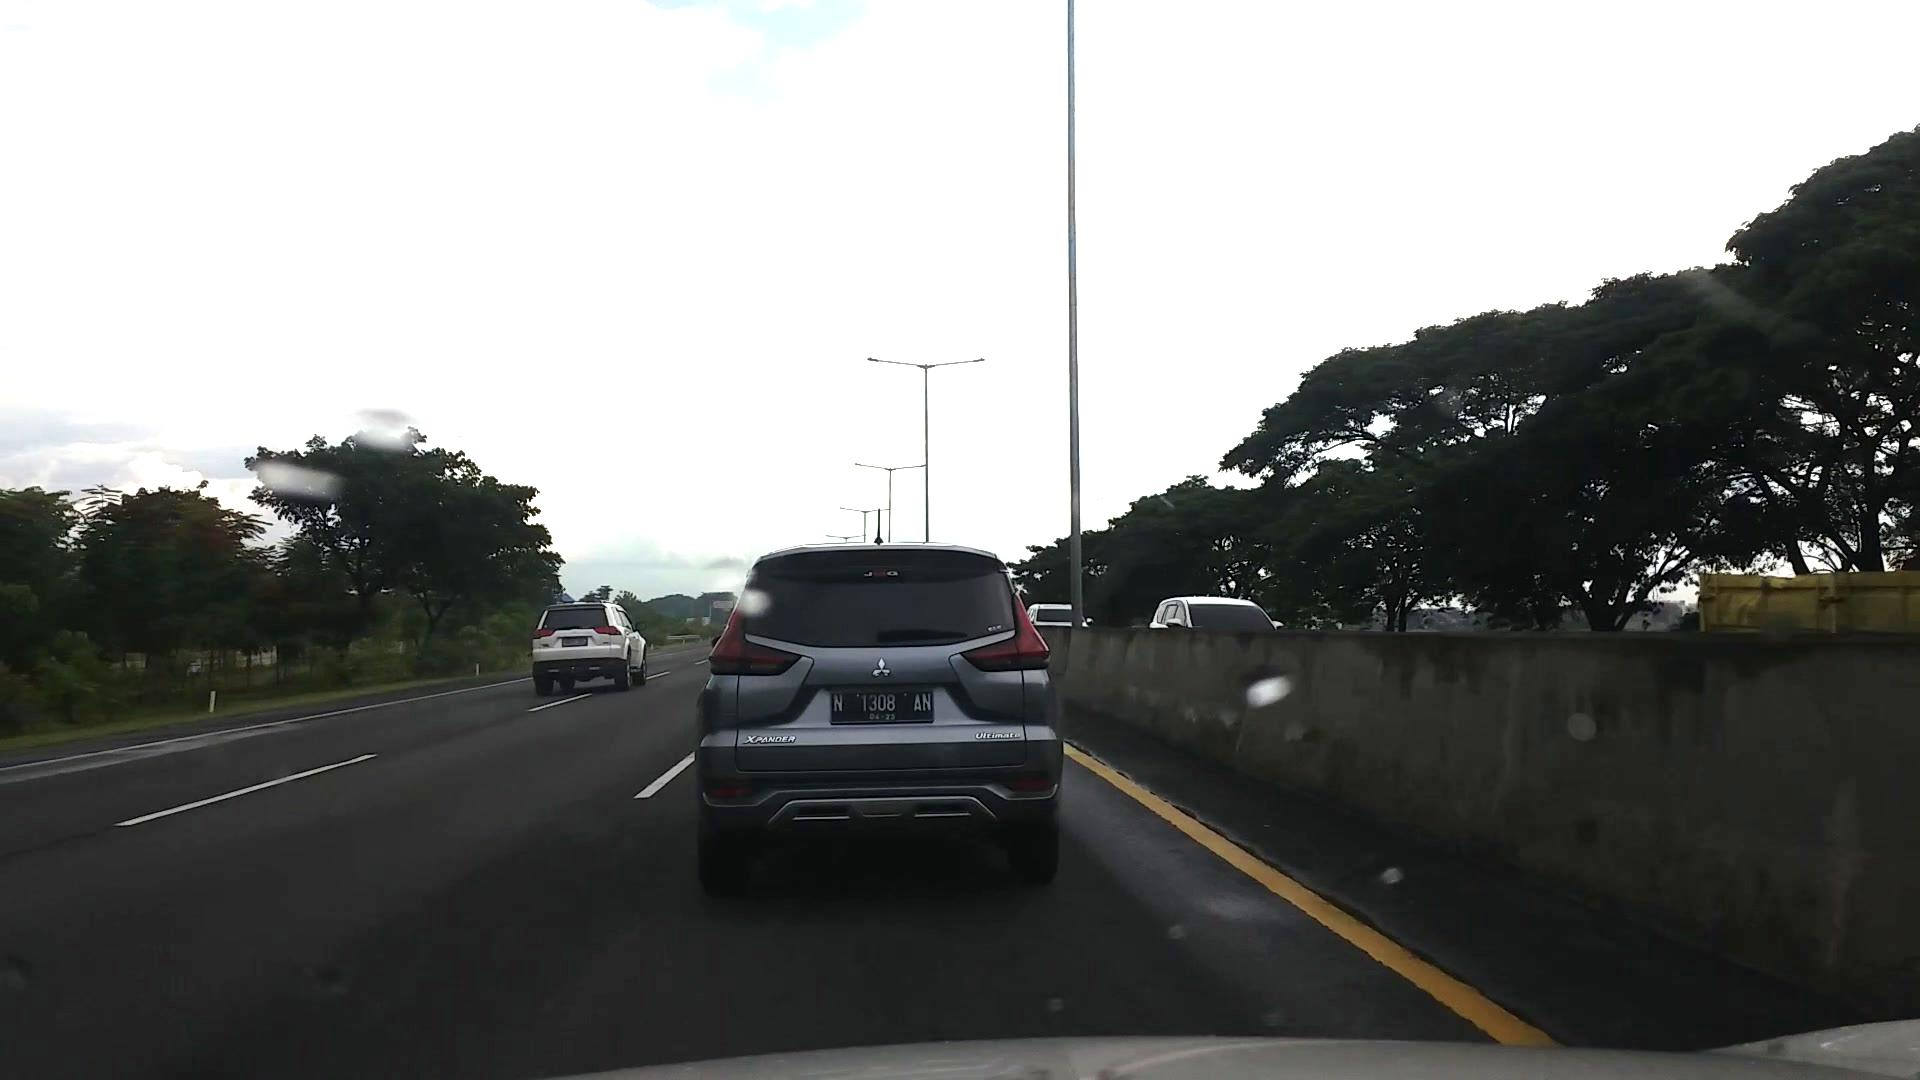plate_positive: (829, 690, 934, 723)
